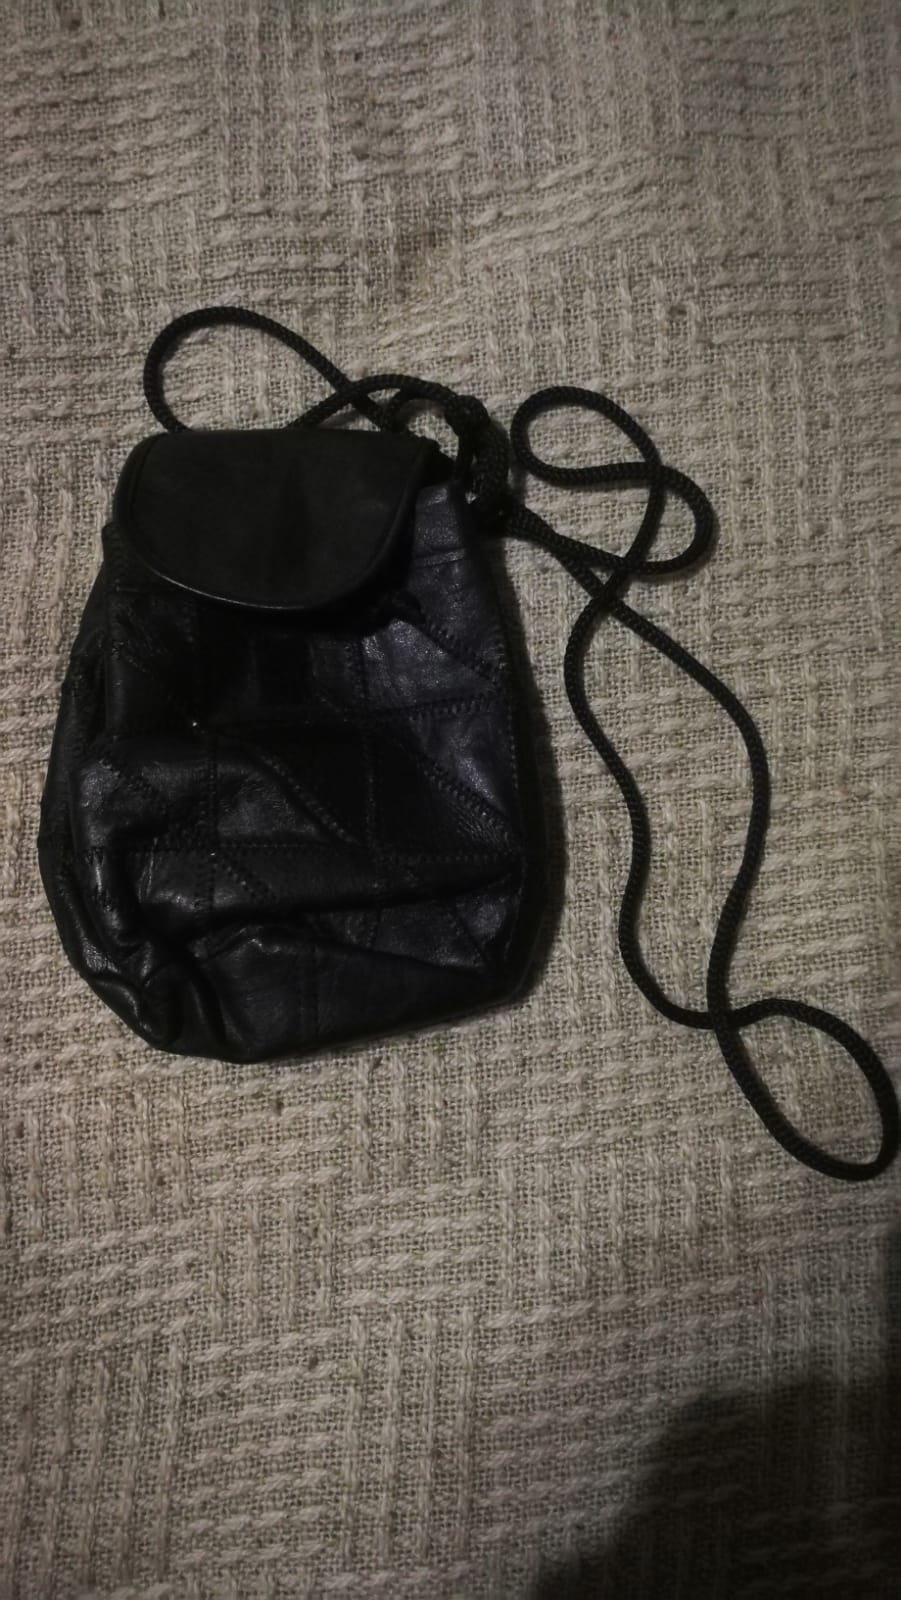cartera: (51, 311, 894, 1176)
cuero: (286, 711, 489, 880)
